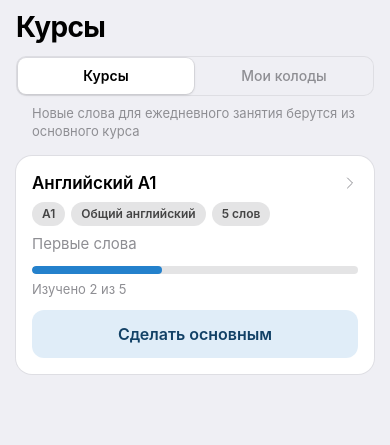
Test: CoursesView › the main course › keeps the list and shows the reason in an alert when selecting fails
Click the button with test id "choose-btn" at (195, 334), box [32, 310, 358, 358]
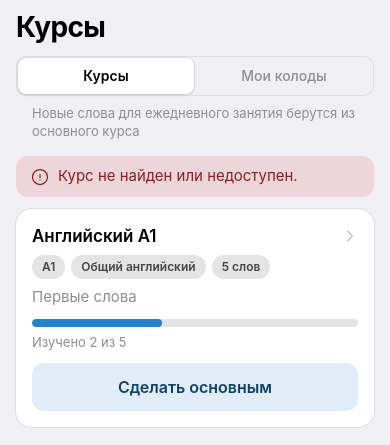
Check: the element with test id "course-english-a1" is shown, box [16, 209, 374, 427]
Check: the message with test id "select-error" reads "Курс не найден или недоступен.", box [58, 166, 298, 185]
